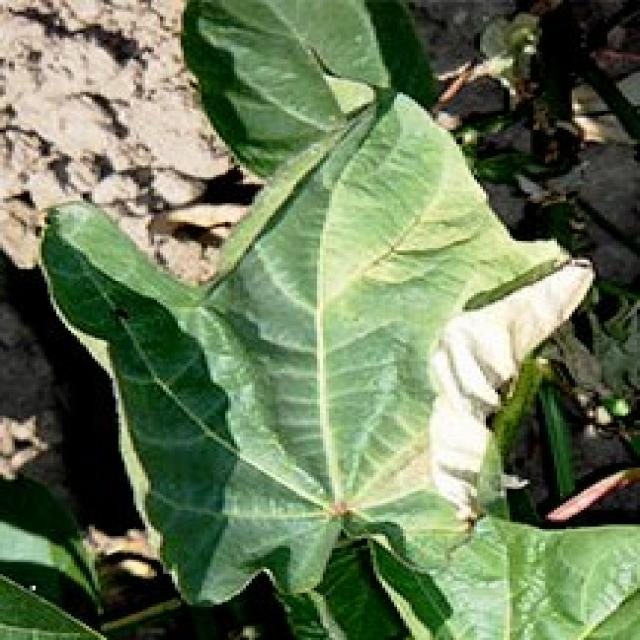Fusarium Wilt: (30, 4, 552, 640)
